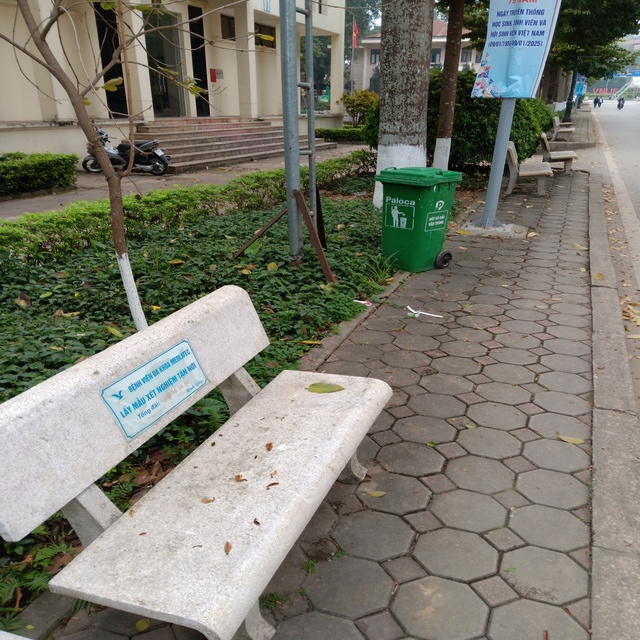gheda: (3, 281, 392, 640), (489, 138, 561, 216), (532, 131, 580, 182), (550, 112, 584, 148)
